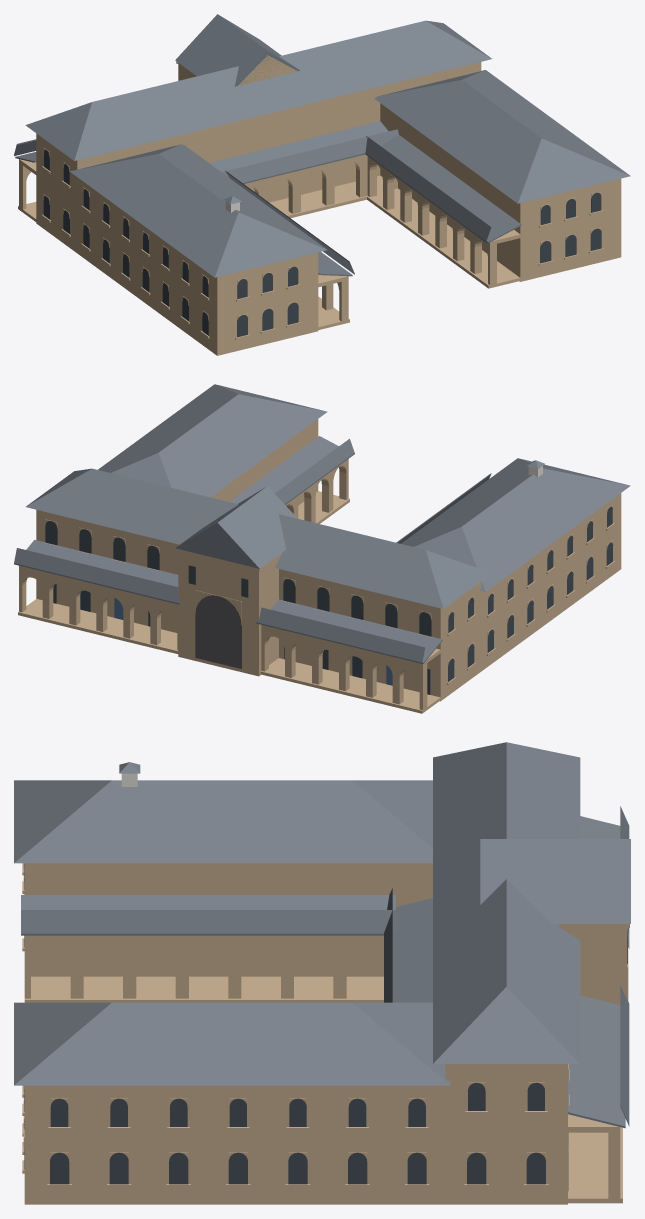
Rendered from ca_quad.glb.
The picture shows the model from 3 angles, top to bottom: view 1: azimuth 30°, elevation 25°; view 2: azimuth 150°, elevation 25°; view 3: azimuth 270°, elevation 25°; orthographic projection. The views are drawn at different scales.
Parts seen in each view (by area): view 1: ca_quad; view 2: ca_quad; view 3: ca_quad.
Boxes of the visible parts, x1,y1,x2,y2 form: ca_quad: [14, 14, 630, 355]; ca_quad: [14, 384, 630, 713]; ca_quad: [14, 742, 630, 1204].
Bounding box in the file's own units: 41.4 × 13.7 × 35.2.
